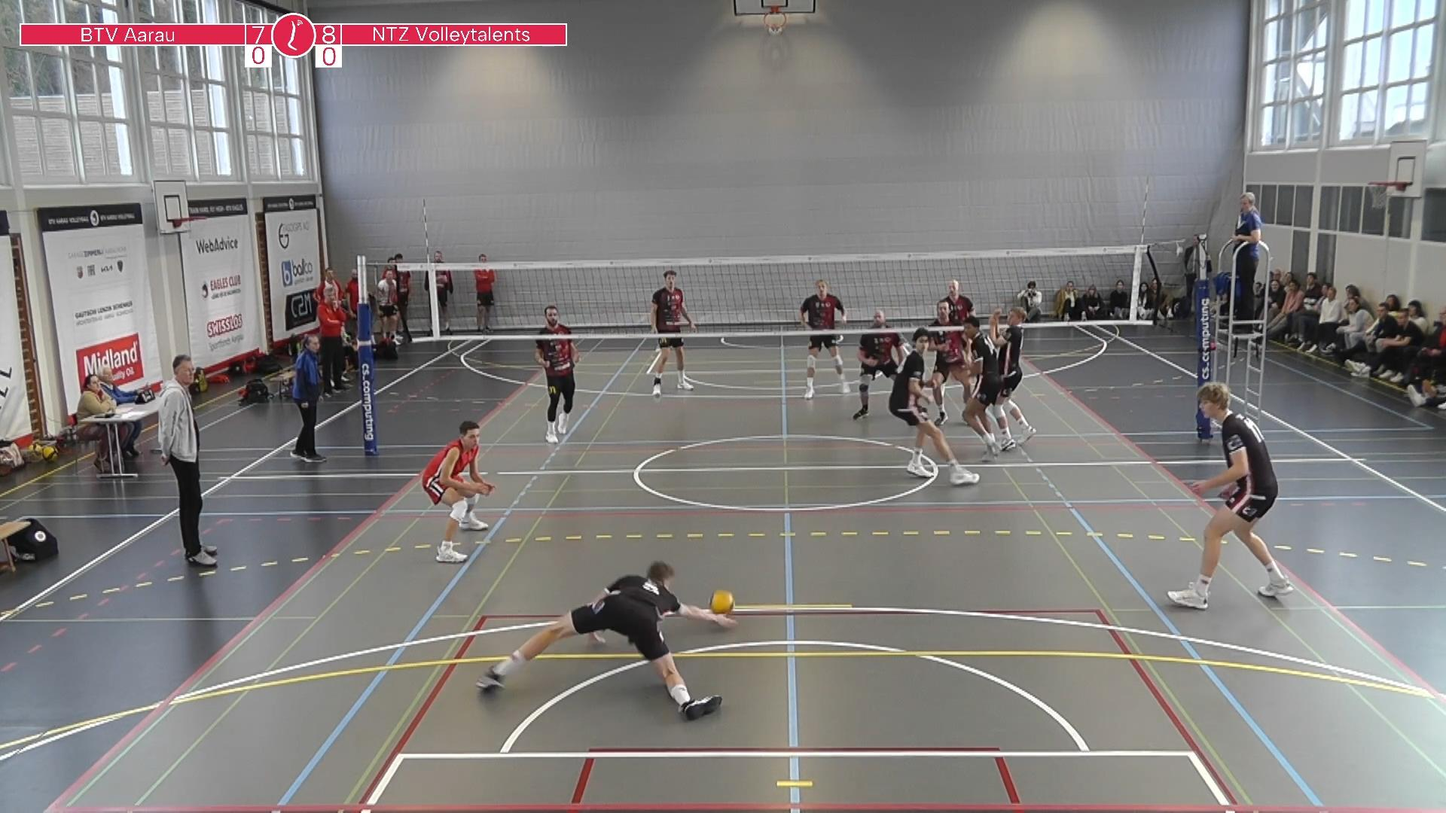difesa: (473, 561, 738, 723)
